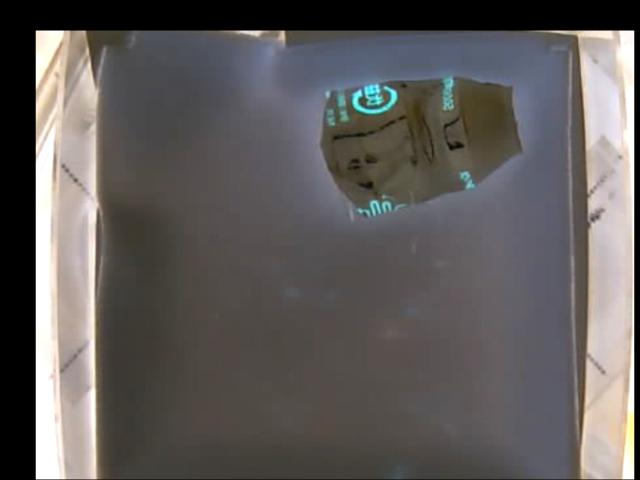Bottle: (320, 74, 520, 218)
